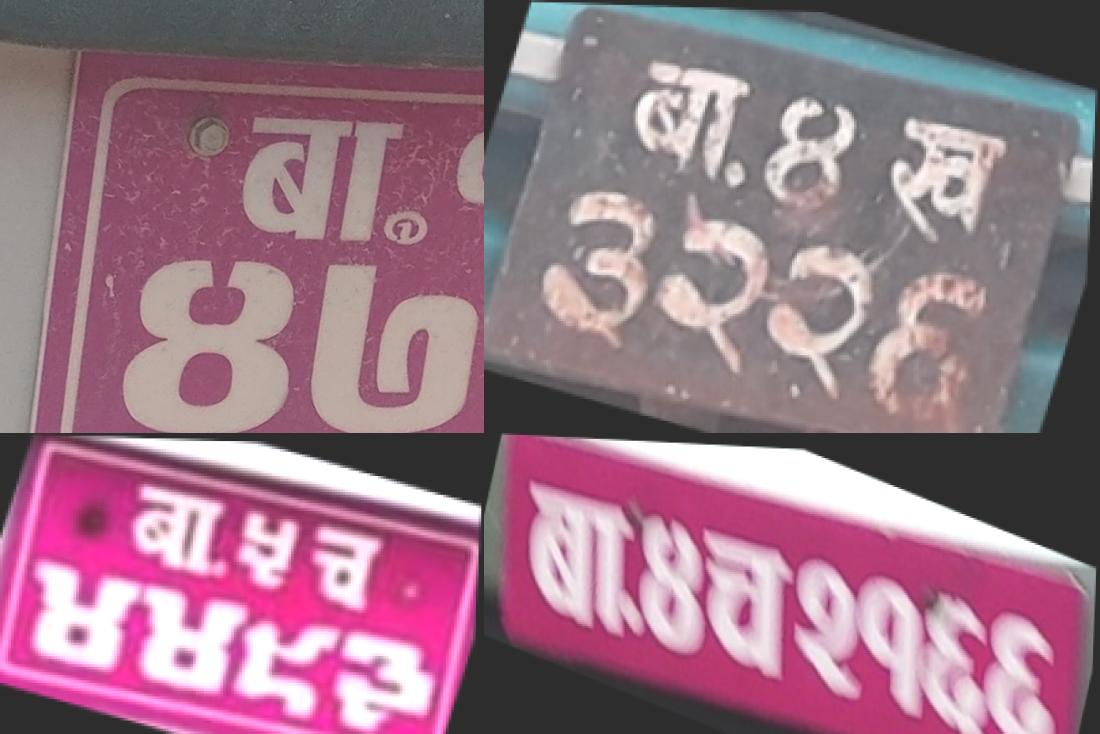1: (828, 559, 950, 734), (425, 97, 484, 262)
2: (636, 200, 790, 394), (746, 222, 892, 411), (774, 542, 884, 720)
3: (525, 162, 682, 364), (320, 616, 450, 734)
4: (95, 217, 335, 433), (4, 546, 150, 677), (747, 77, 877, 224), (617, 498, 728, 669), (122, 572, 253, 702)
5: (223, 500, 309, 594)
6: (855, 249, 1012, 433), (898, 573, 1015, 734), (968, 590, 1089, 734)
7: (283, 241, 484, 433)
9: (232, 598, 346, 714)
ba: (214, 70, 421, 260), (499, 462, 653, 653), (614, 47, 759, 192), (117, 476, 235, 576)
cha: (674, 509, 812, 701), (295, 514, 394, 611)
kha: (861, 95, 1030, 260)
